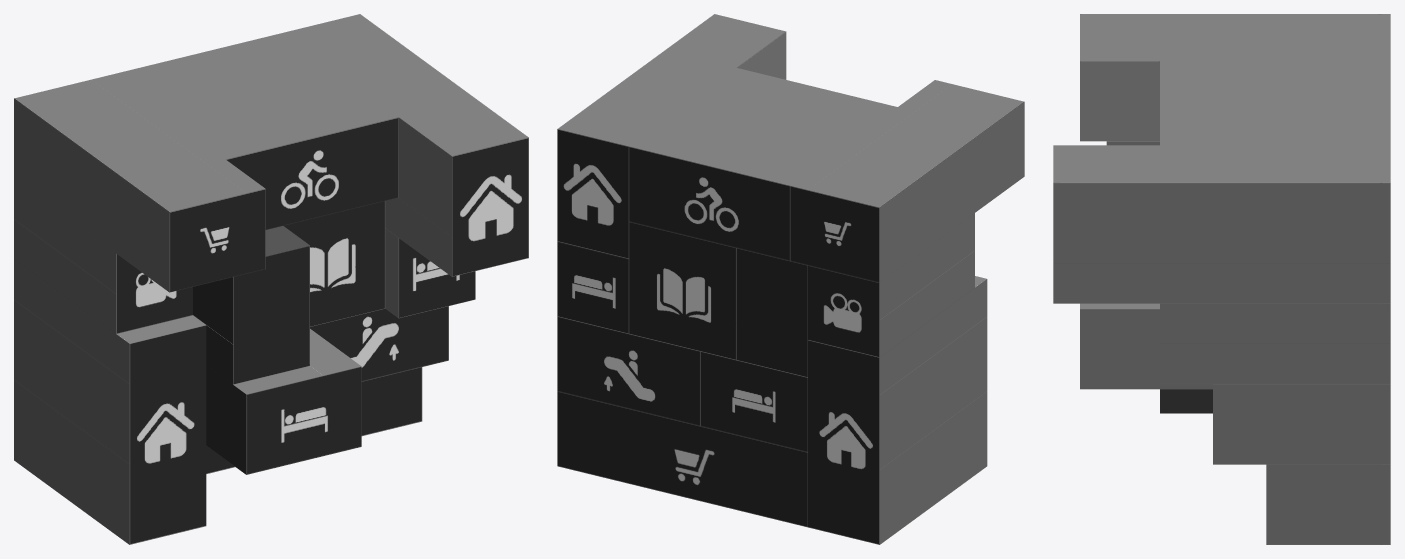
Rendered from lego building mesh simplified_high rise_icon.fbx.
3 renders of one model, left to right at view 1: azimuth 30°, elevation 25°; view 2: azimuth 150°, elevation 25°; view 3: azimuth 270°, elevation 25°, orthographic. The views are drawn at different scales.
Visible parts, largest first — view 1: Layer 03; view 2: Layer 03; view 3: Layer 03.
Part boxes in pixels (left/top/right/bottom): Layer 03: left=14, top=14, right=528, bottom=544; Layer 03: left=557, top=14, right=1024, bottom=544; Layer 03: left=1053, top=14, right=1390, bottom=544.
Size of the model in its own units: 360 by 360 by 304.
